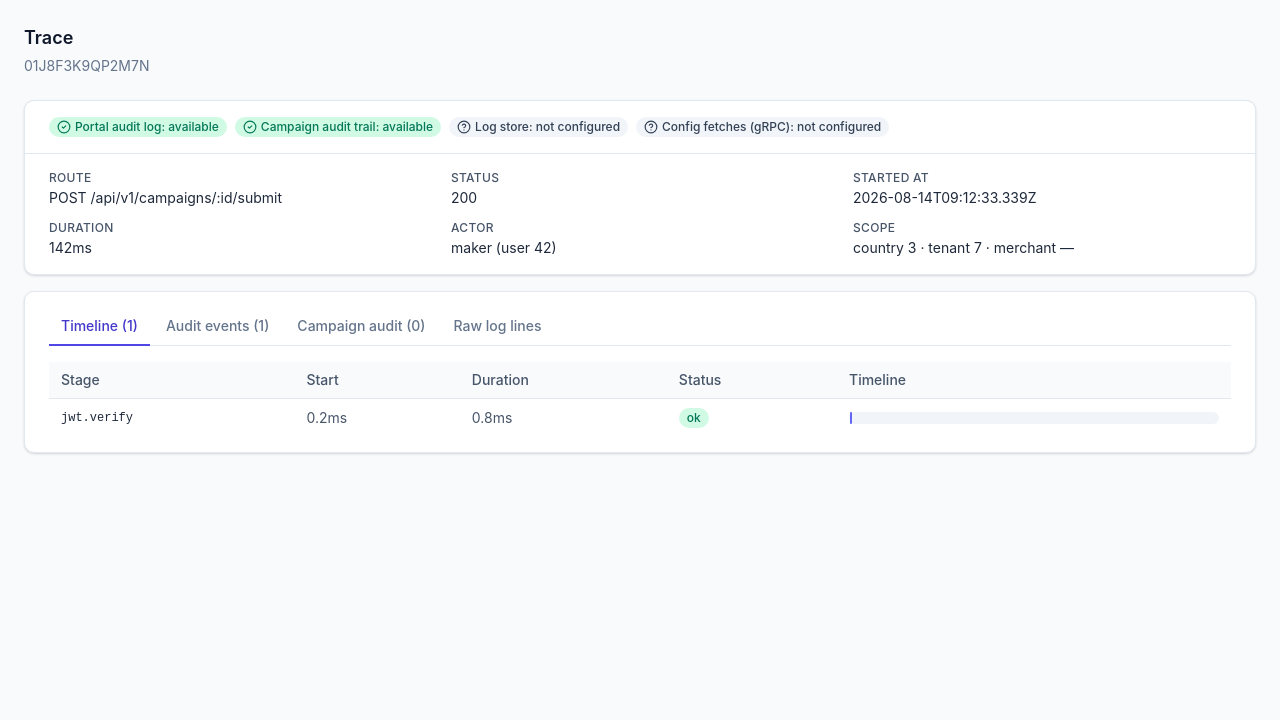
Test: the raw-log-lines tab › shows a "not configured" empty state when the log store has no adapter
Expected: the heading "Trace" is shown, [24,27,73,48]
Click the tab "Raw log lines": (497, 327) [442,308,553,346]
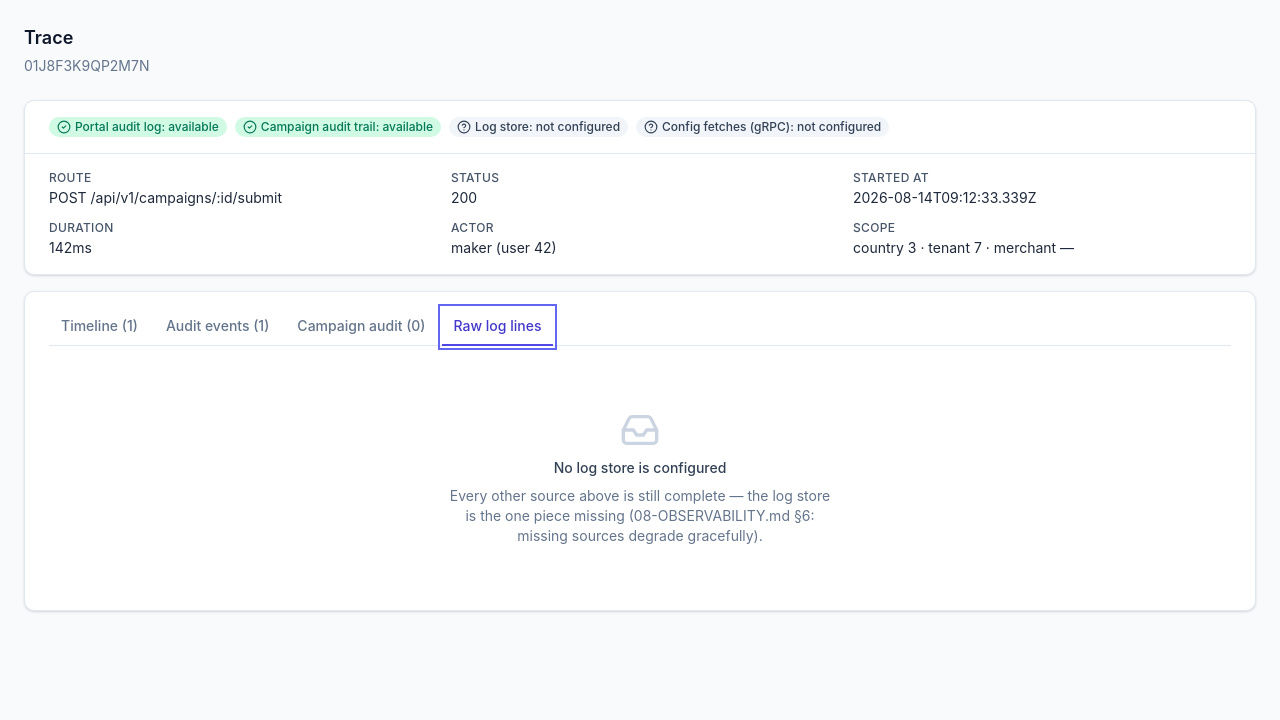
Expected: the text "No log store is configured" is shown, [554,458,726,478]
